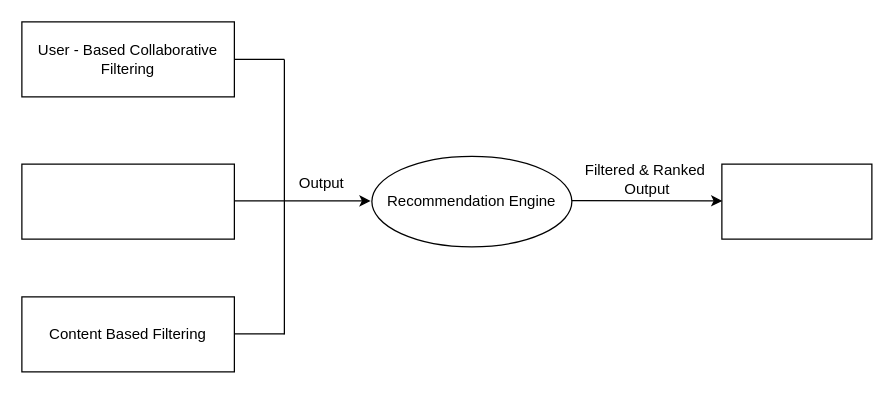
Image size: 894x394. Some labels were removed from this diagram. The shapes that lost their labels are listed below. From the top down, each one's centre as x and y in pixels, then its label:
At point (127, 201): "Item - Based Collaborative Filtering".
At point (796, 201): "User".
